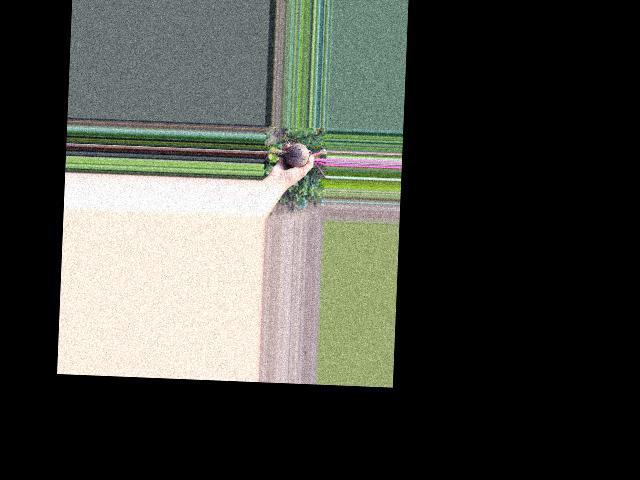beet: (262, 132, 327, 178)
